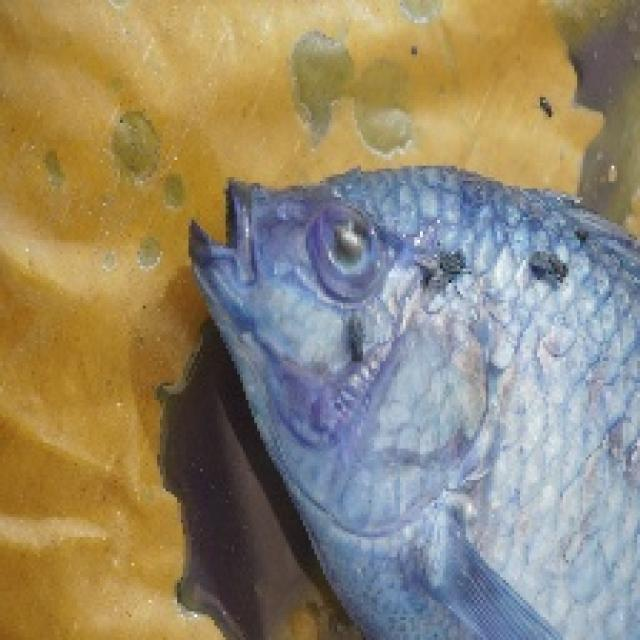Non-Fresh: (290, 195, 403, 309)
